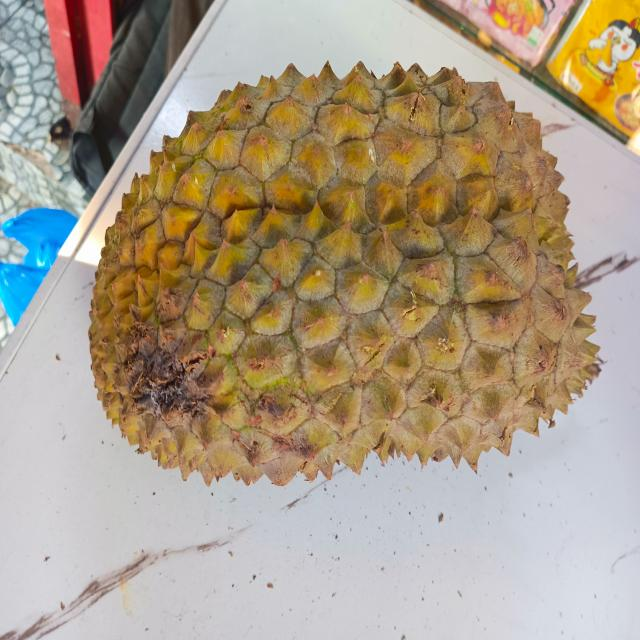mature: (89, 62, 599, 485)
